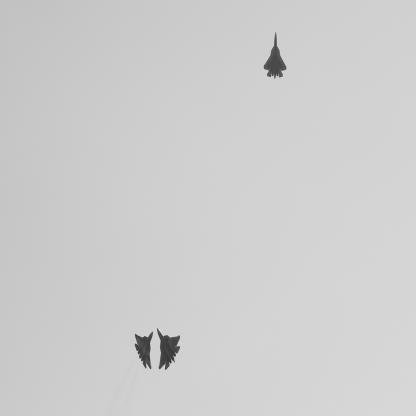Su57: (265, 32, 288, 81), (158, 329, 182, 372), (135, 332, 155, 371)
